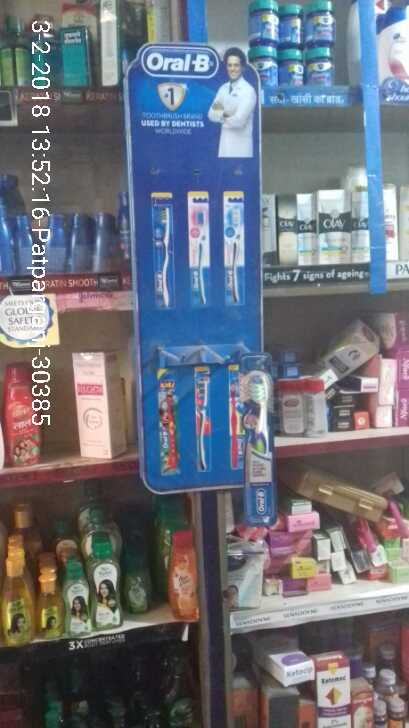pharmacy: (243, 1, 345, 86), (237, 370, 279, 524)
